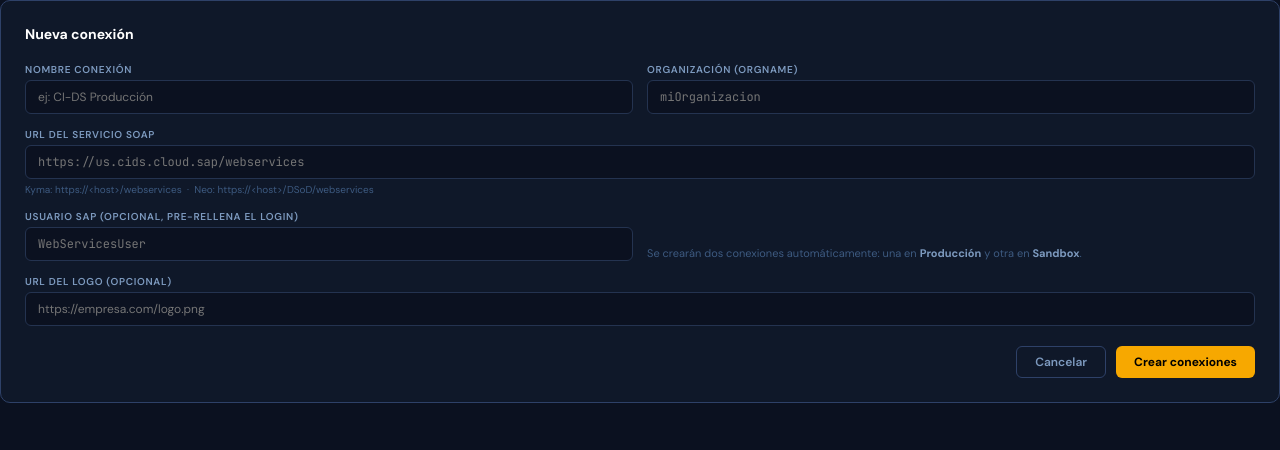
ConnectionForm · validacion › exige el nombre primero
Click the button "Crear conexiones" at (1186, 362), box left=1116, top=346, right=1255, bottom=378
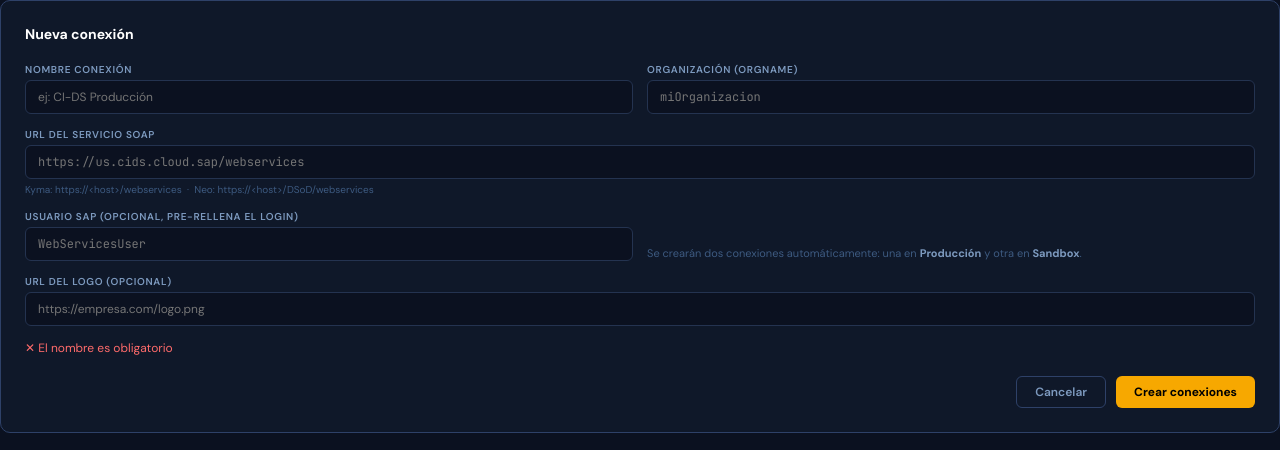
Result: the text "✕ El nombre es obligatorio" is shown at left=25, top=340, right=173, bottom=356
